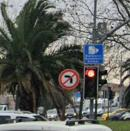leftturnsareforbidden: (60, 69, 79, 89)
redlight: (85, 67, 98, 99)
